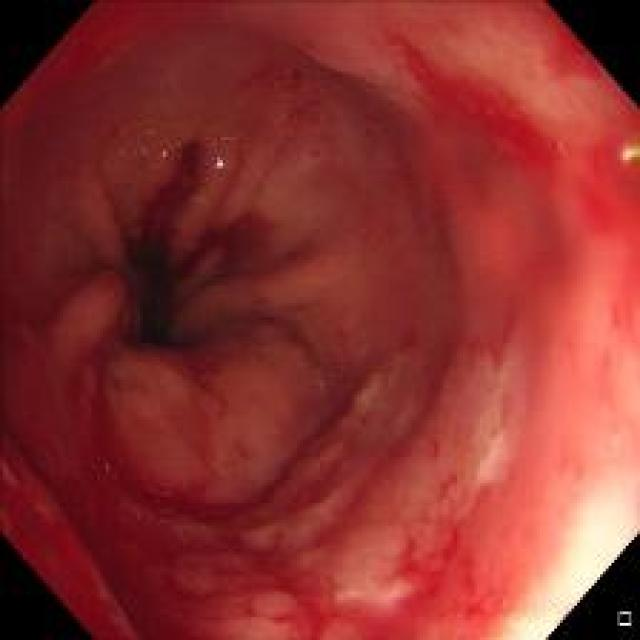blood: (9, 356, 172, 630), (334, 490, 530, 638), (160, 524, 346, 639), (198, 209, 274, 279), (172, 138, 201, 189), (154, 181, 182, 232)
blur: (369, 120, 631, 348), (508, 321, 636, 622)
contrast: (102, 220, 201, 356)
saturation: (514, 510, 628, 636)
specularity: (131, 116, 174, 171), (609, 134, 638, 172), (205, 149, 234, 180)
